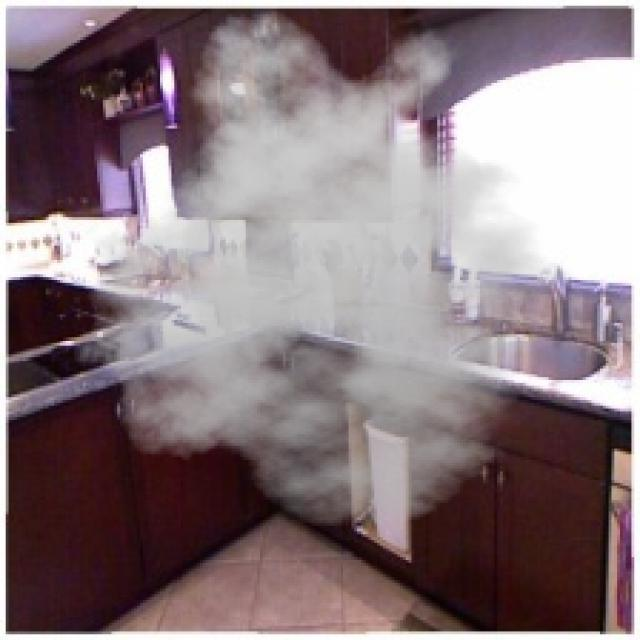Smoke: (60, 9, 597, 528)
